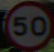Speed limit: (3, 2, 49, 43)
